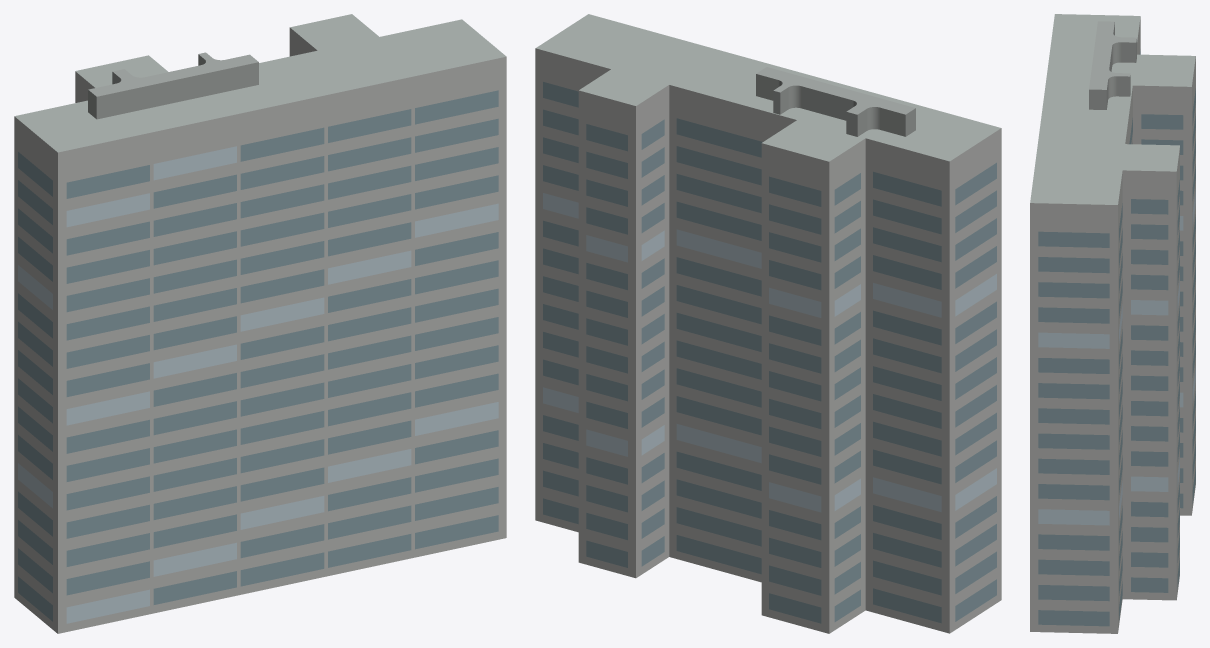
Rendered from fallback-geumho-park-hills-110.glb.
The picture shows the model from 3 angles, left to right: view 1: azimuth 30°, elevation 25°; view 2: azimuth 150°, elevation 25°; view 3: azimuth 270°, elevation 25°; orthographic projection. The views are drawn at different scales.
Parts seen in each view (by area): view 1: fallback-geumho-park-hills-110; view 2: fallback-geumho-park-hills-110; view 3: fallback-geumho-park-hills-110.
Boxes of the visible parts, x1=… form: fallback-geumho-park-hills-110: x1=14, y1=14, x2=506, y2=633; fallback-geumho-park-hills-110: x1=535, y1=14, x2=1001, y2=633; fallback-geumho-park-hills-110: x1=1030, y1=14, x2=1195, y2=633.
Bounding box in the file's own units: 44.73 × 49 × 16.4.
